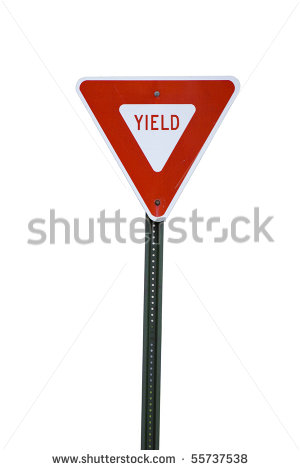yield_sign: (75, 75, 241, 222)
